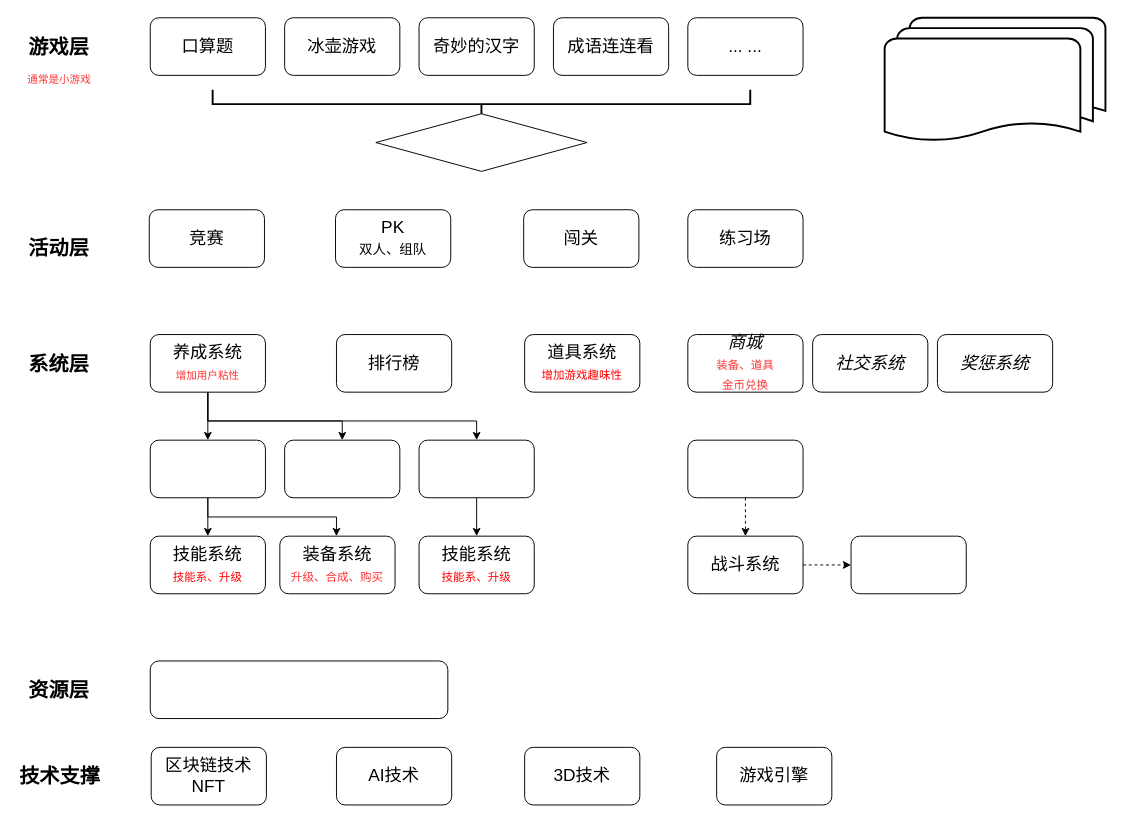
This 1122x822 diagram has some shape labels left out. Here are the shapes that lost their labels. From the top down, the centre of each, then its label:
At point 994,79: "定义一套游戏接入规范 可引入外部游戏".
At point 481,142: "不同程度支持UGC/PGC".
At point 207,468: "NPC (人物角色)".
At point 342,468: "个人资产 游戏币".
At point 476,468: "宠物系统 图鉴".
At point 745,468: "故事剧情".
At point 908,564: "怪物系统 分类、形象、技能".
At point 298,689: "基于游戏模块再创作的资源库支持 学习目标、题库等".
